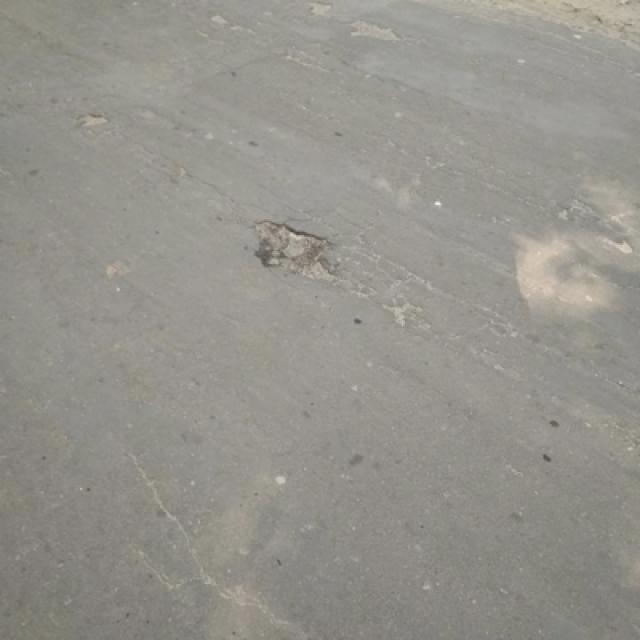objects: (251, 214, 341, 285)
